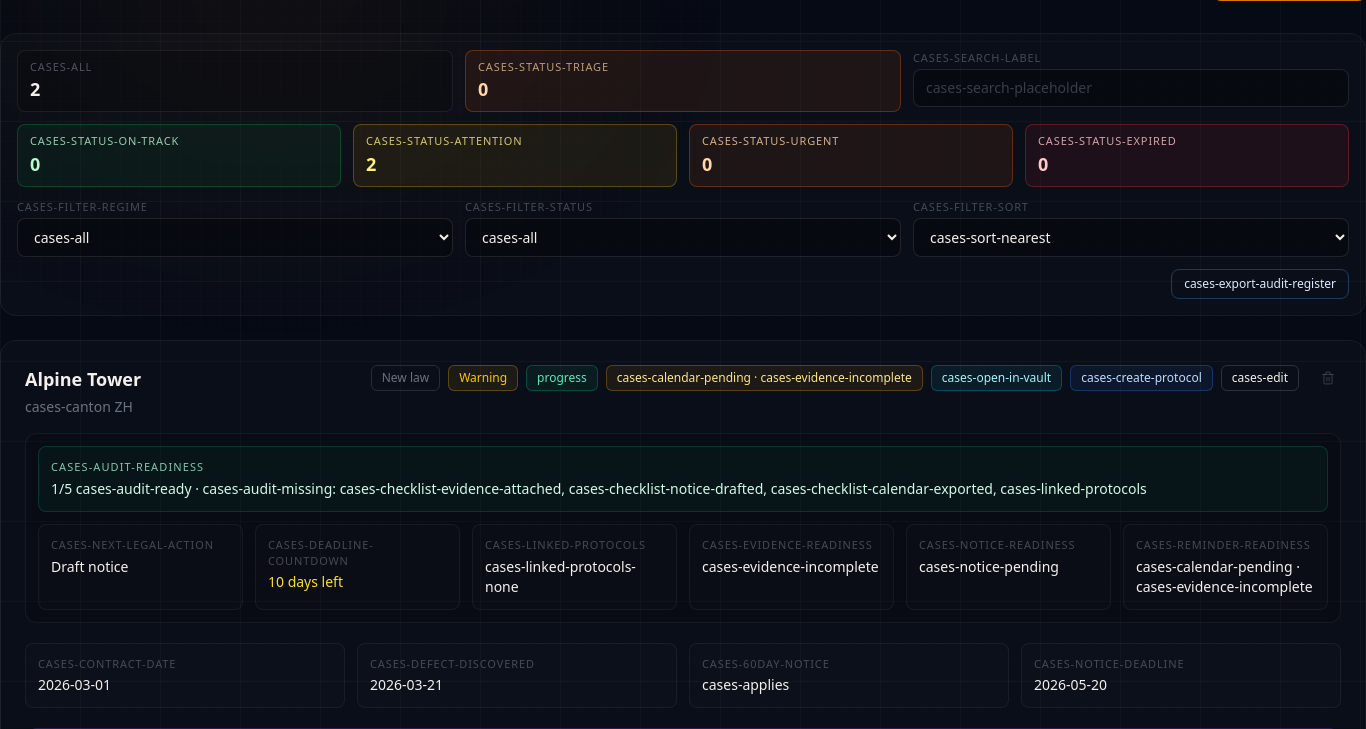
Test: cases inline edit › does not persist an acceptance date after discovery
Click the button "cases-edit" at [1260, 378], box [1221,365,1299,391]
(page scrolled)
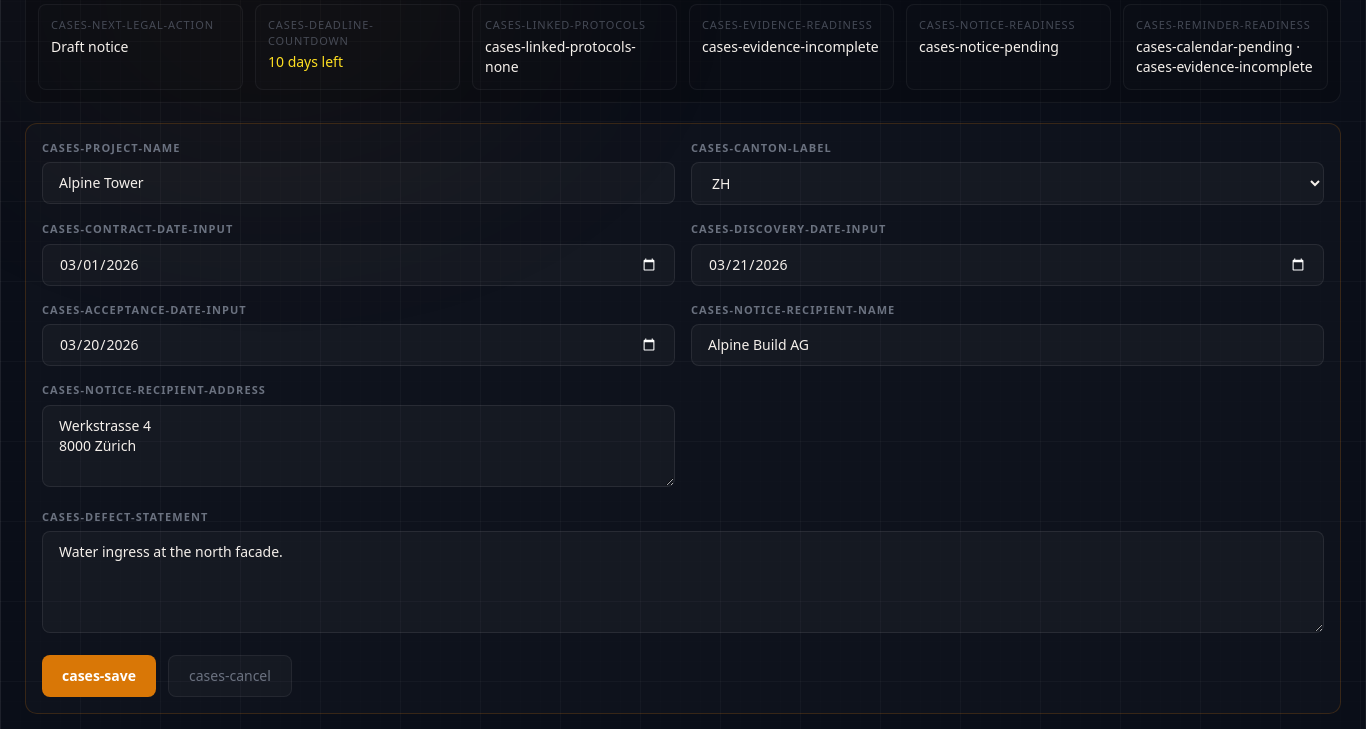
Type "2026-03-22" into the date field labelled "cases-acceptance-date-input" at [358, 345], box [42,324,675,366]
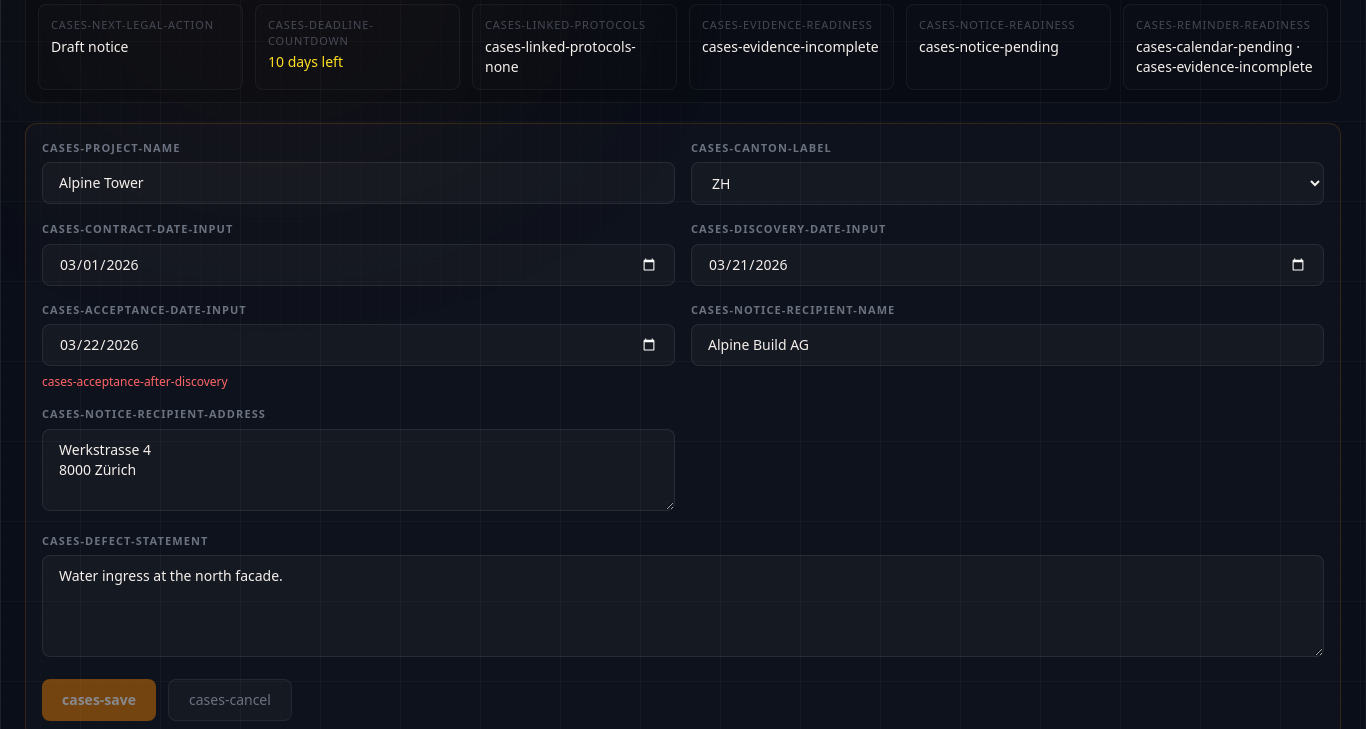
Expected: the text "cases-acceptance-after-discovery" is shown, [42,373,228,390]
Expected: the button "cases-save" is disabled, [42,679,156,721]
